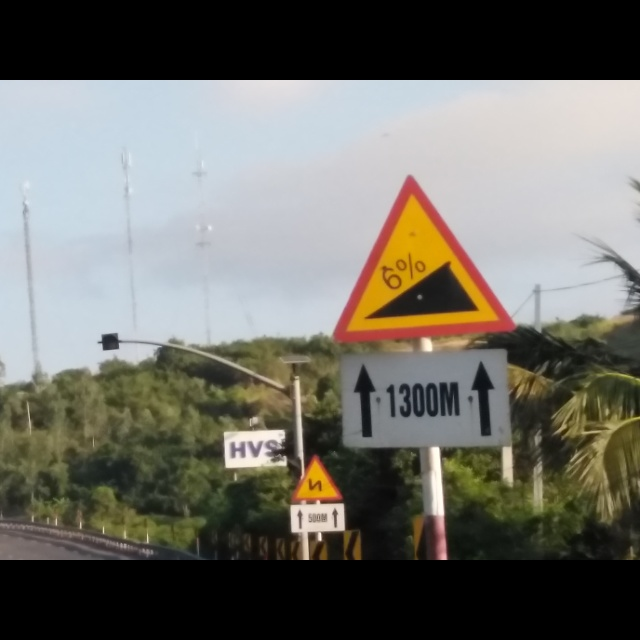Dốc lên nguy hiểm: (329, 170, 515, 343)
Ngoặt nguy hiểm liên tiếp bên phải: (291, 450, 344, 504)
